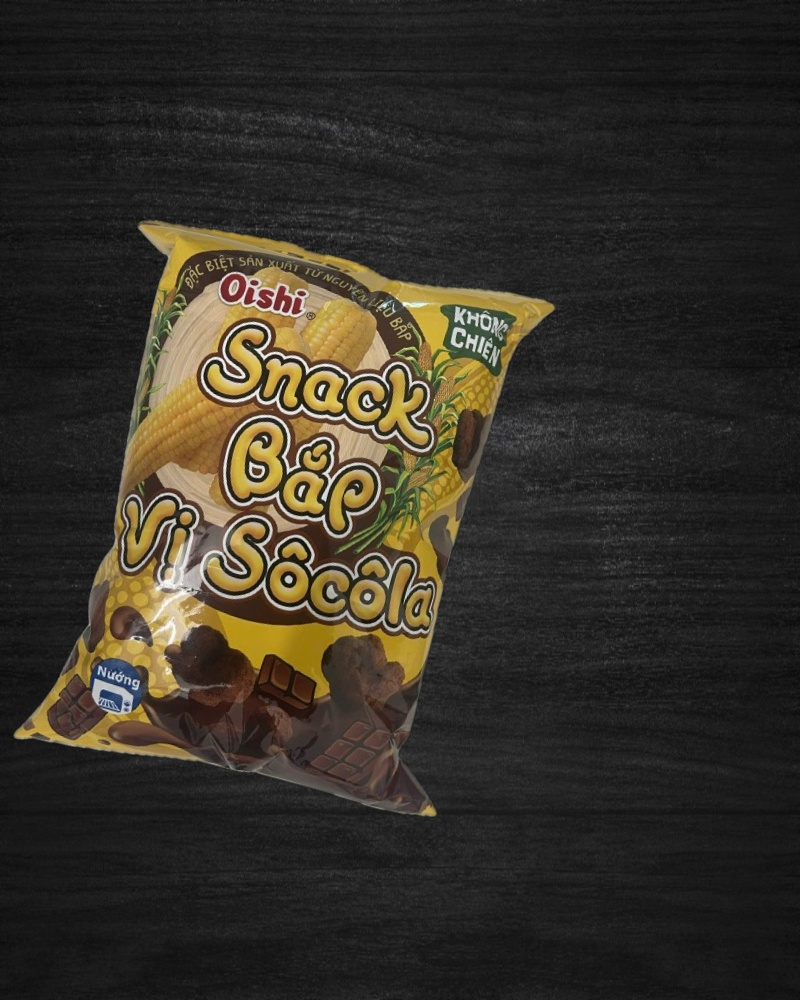Snack socola: (6, 198, 572, 838)
